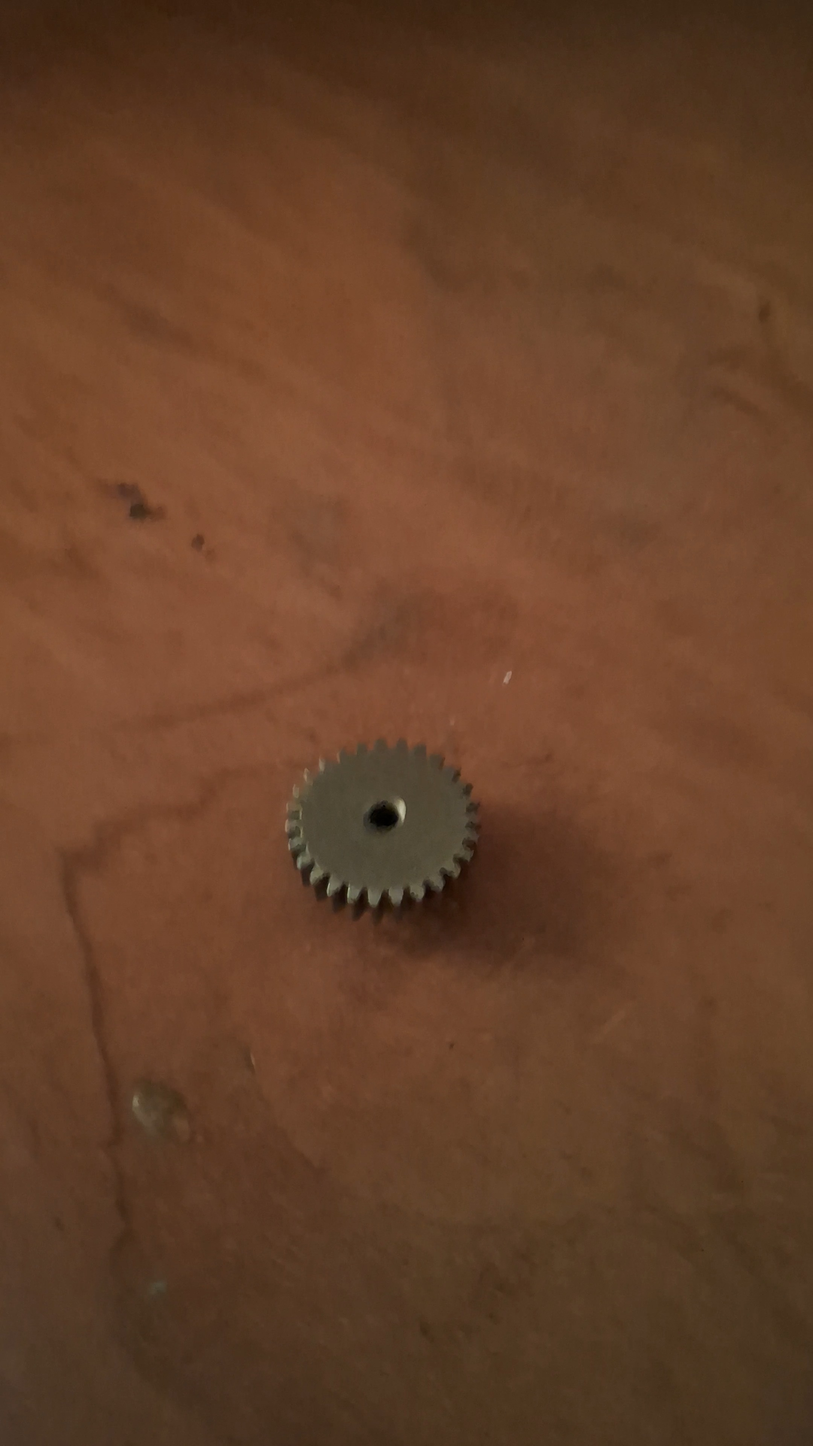spur gear: (287, 740, 477, 908)
